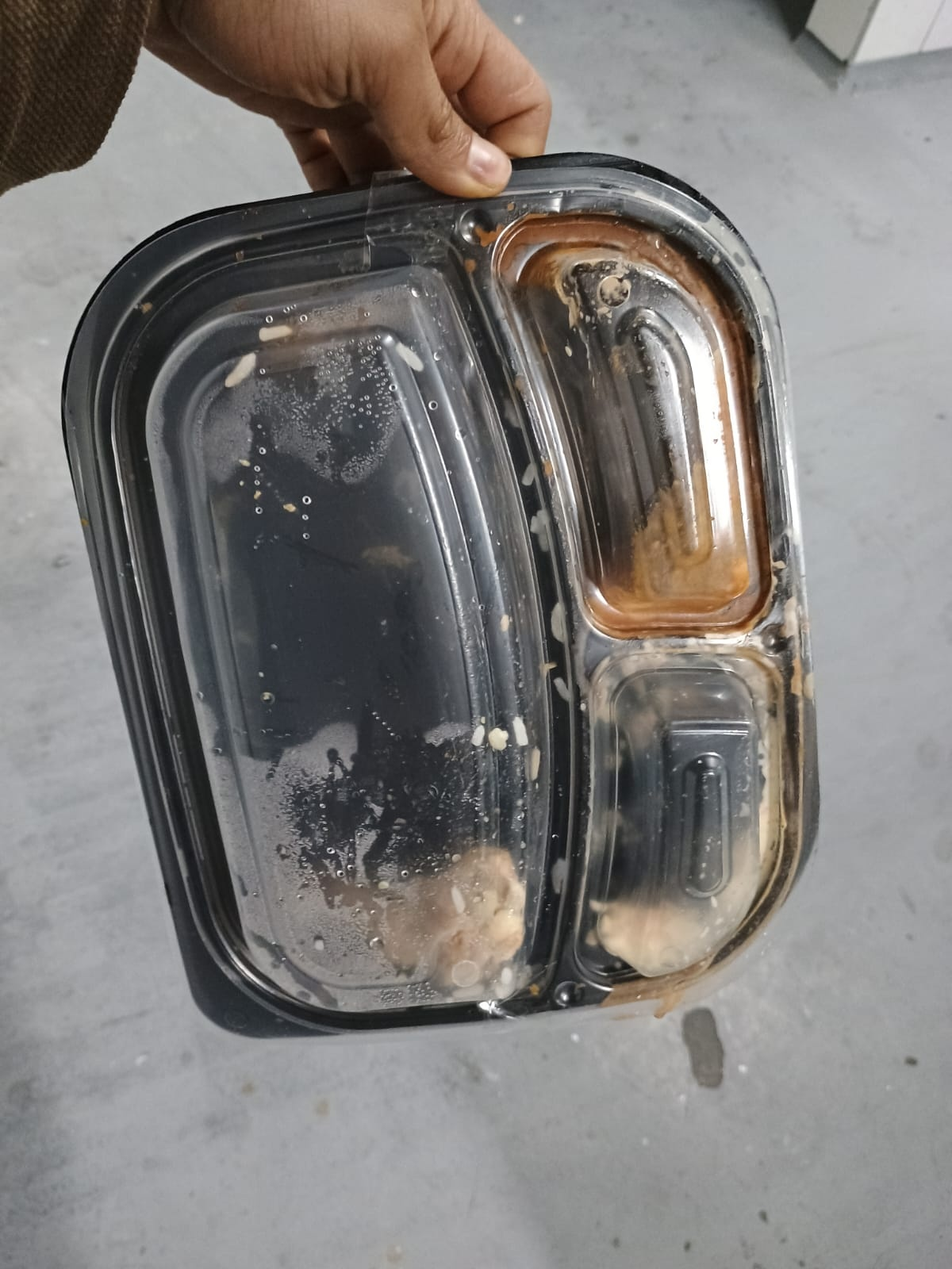Ordinario: (64, 150, 820, 1037)
